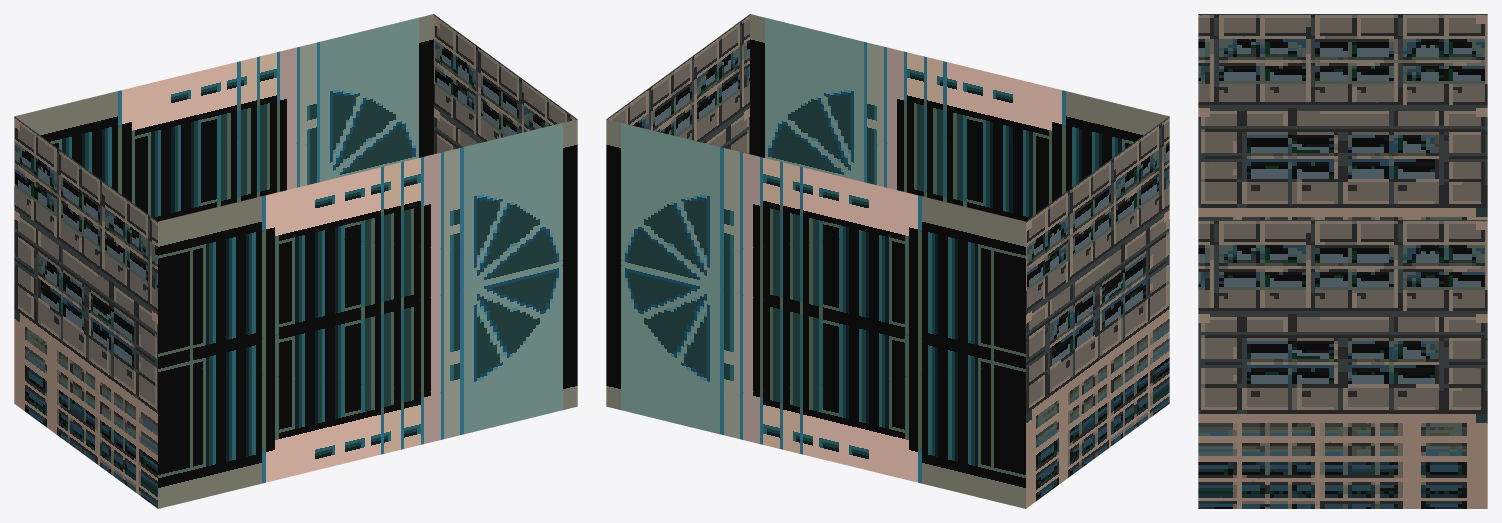
The picture shows the model from 3 angles, left to right: view 1: azimuth 30°, elevation 25°; view 2: azimuth 150°, elevation 25°; view 3: azimuth 270°, elevation 25°; orthographic projection.
Visible parts, largest first — view 1: obj-132; view 2: obj-132; view 3: obj-132.
Part boxes in pixels (bbox=[...]): obj-132: bbox=[14, 14, 577, 508]; obj-132: bbox=[606, 14, 1169, 508]; obj-132: bbox=[1198, 14, 1487, 508].
Bounding box in the file's own units: 5.96 × 3.9 × 3.54.
Materials: 1 (1 with a texture image).
